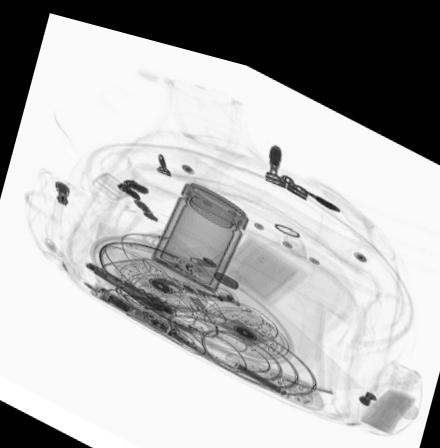Knife: (82, 257, 181, 307)
